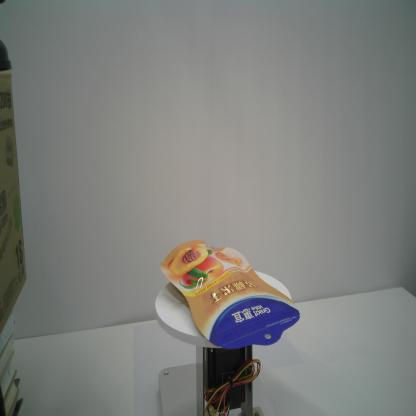Dried Fruit: (158, 239, 301, 350)
